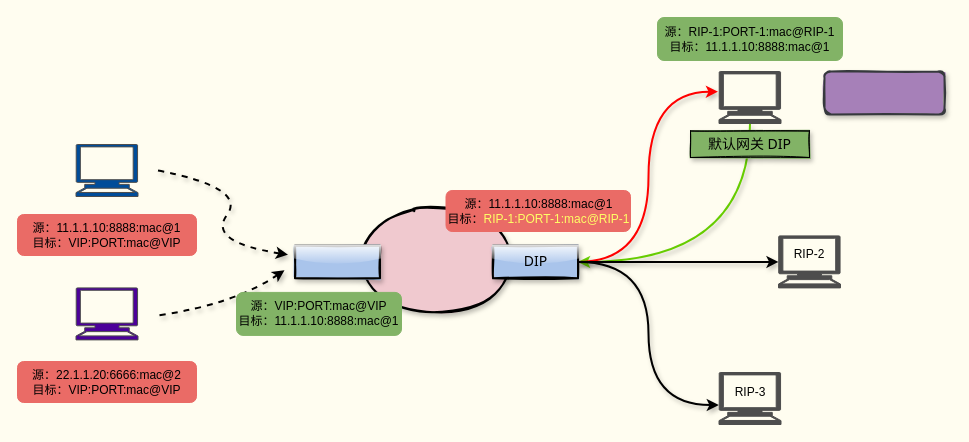
The diagram is 969 pixels wide and 442 high, and some of its shapes have lost their labels. The centre of each missing label's shape, as x and y in pixels:
"DNAT" goes at [437,260].
"RIP-1" goes at [749,97].
"TCP 连接 CIP - RIP" goes at [885,94].
"VIP" goes at [338,263].
